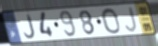4: (38, 11, 56, 41)
8: (79, 9, 96, 36)
9: (59, 9, 78, 38)
J: (124, 6, 139, 33), (23, 14, 37, 40)
O: (100, 7, 122, 35)
